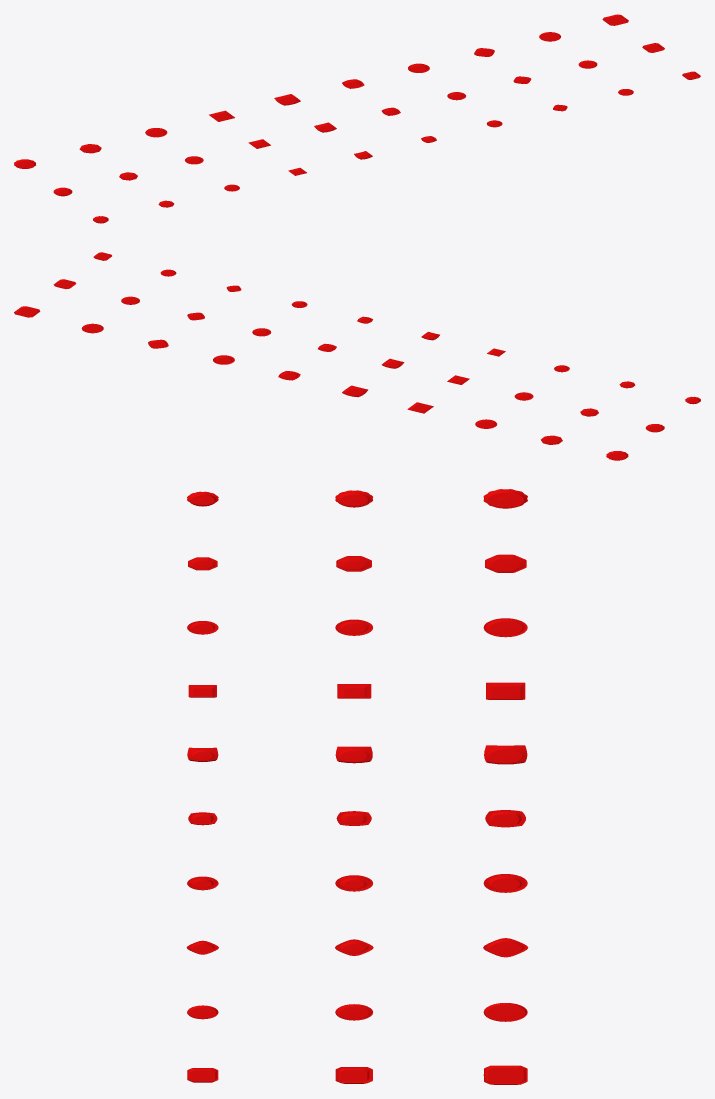
File: plates_grp.fbx
3 views of the same model, one above another, from view 1: azimuth 30°, elevation 25°; view 2: azimuth 150°, elevation 25°; view 3: azimuth 270°, elevation 25° (orthographic). The views are drawn at different scales.
Bounding box in the file's own units: 929 × 2.89 × 226.
